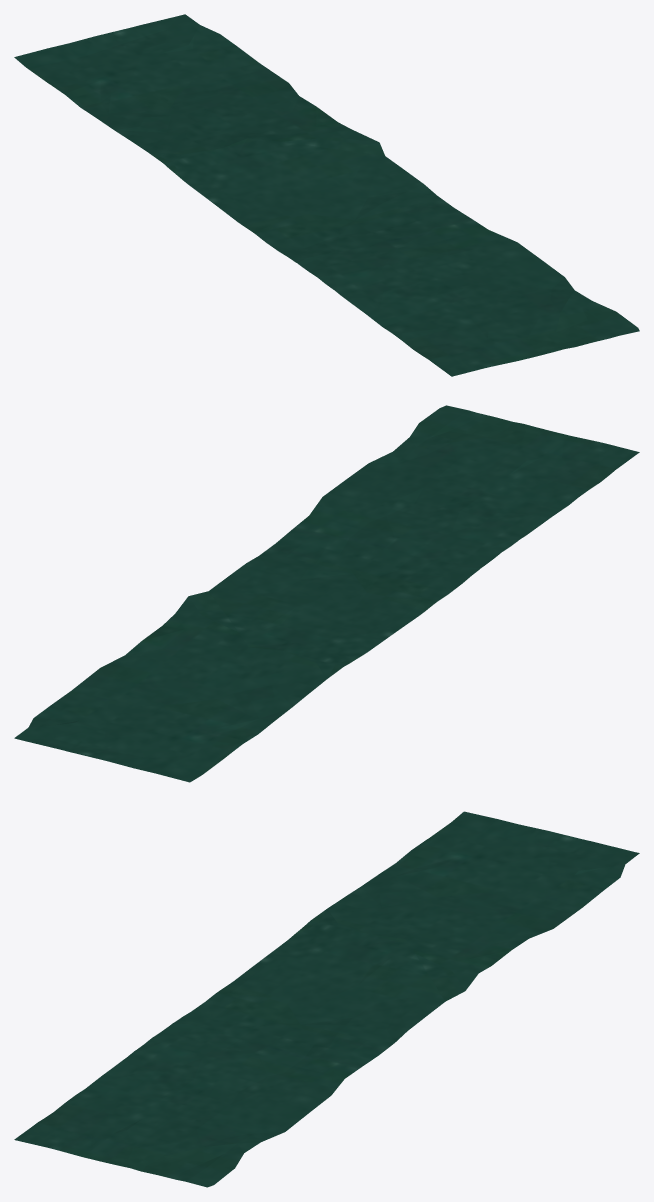
3 views of the same model, one above another, from view 1: azimuth 30°, elevation 25°; view 2: azimuth 150°, elevation 25°; view 3: azimuth 330°, elevation 25° (orthographic). The views are drawn at different scales.
Size of the model in its own units: 26.25 by 0.9024 by 104.
Materials: 1 (1 with a texture image).
